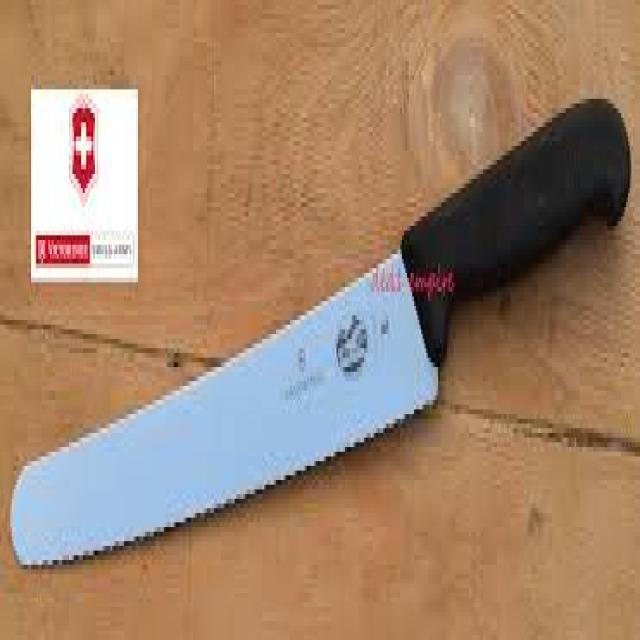Knife: (7, 94, 633, 569)
